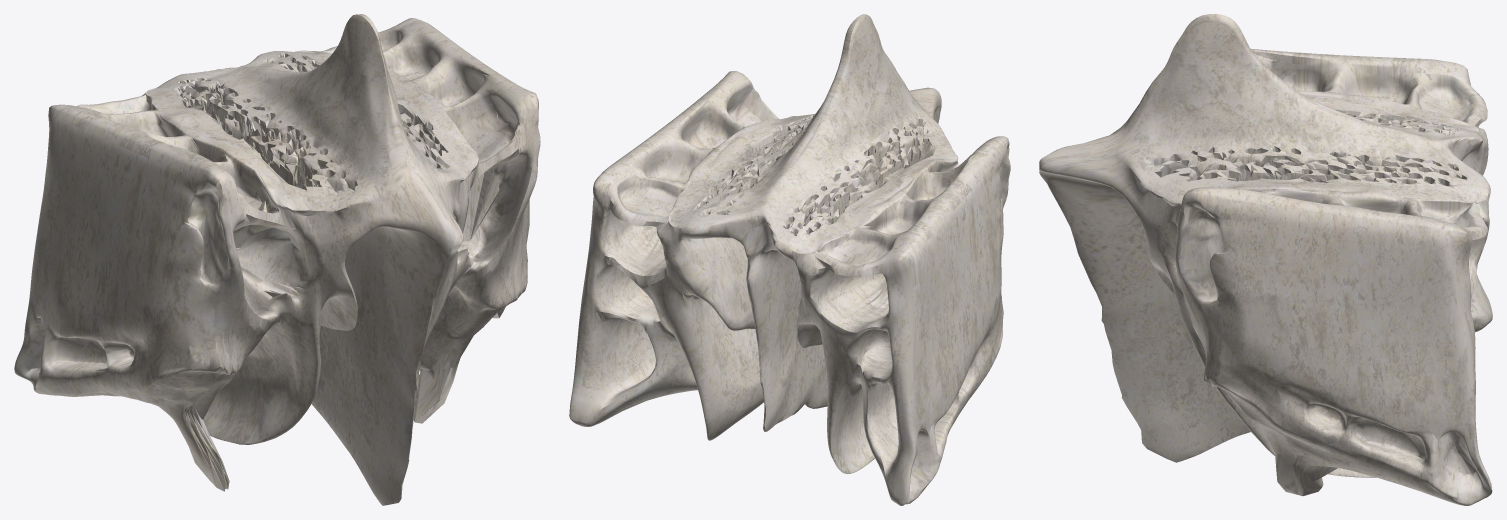
File: ethmoid_bone__hueso_etmoides.glb
3 views of the same model, side by side, from view 1: azimuth 30°, elevation 25°; view 2: azimuth 150°, elevation 25°; view 3: azimuth 270°, elevation 25° (orthographic). The views are drawn at different scales.
Parts seen in each view (by area): view 1: Object_2, Object_3; view 2: Object_2, Object_3; view 3: Object_2, Object_3.
Part boxes in pixels (x1=…): Object_2: x1=14, y1=14, x2=540, y2=505; Object_3: x1=145, y1=14, x2=525, y2=440; Object_2: x1=569, y1=14, x2=1010, y2=505; Object_3: x1=615, y1=19, x2=956, y2=440; Object_2: x1=1039, y1=14, x2=1492, y2=505; Object_3: x1=1152, y1=16, x2=1490, y2=477.
Bounding box in the file's own units: 3.22 × 3.56 × 3.22.
1 material, 1 textured.
